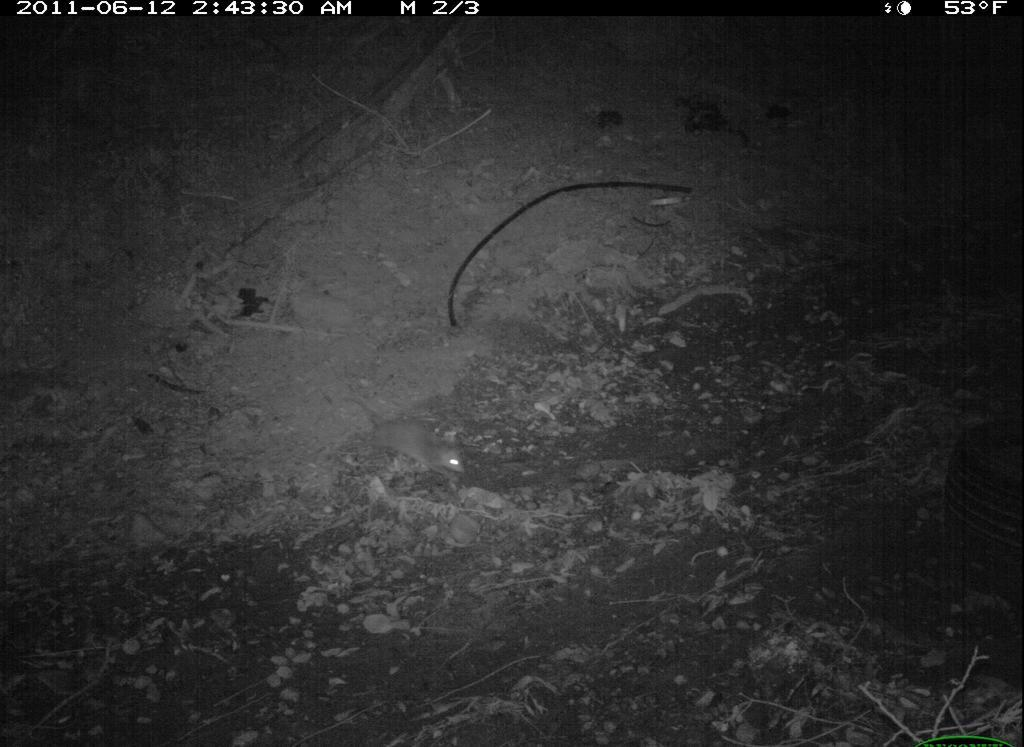opossum: (337, 390, 475, 489)
